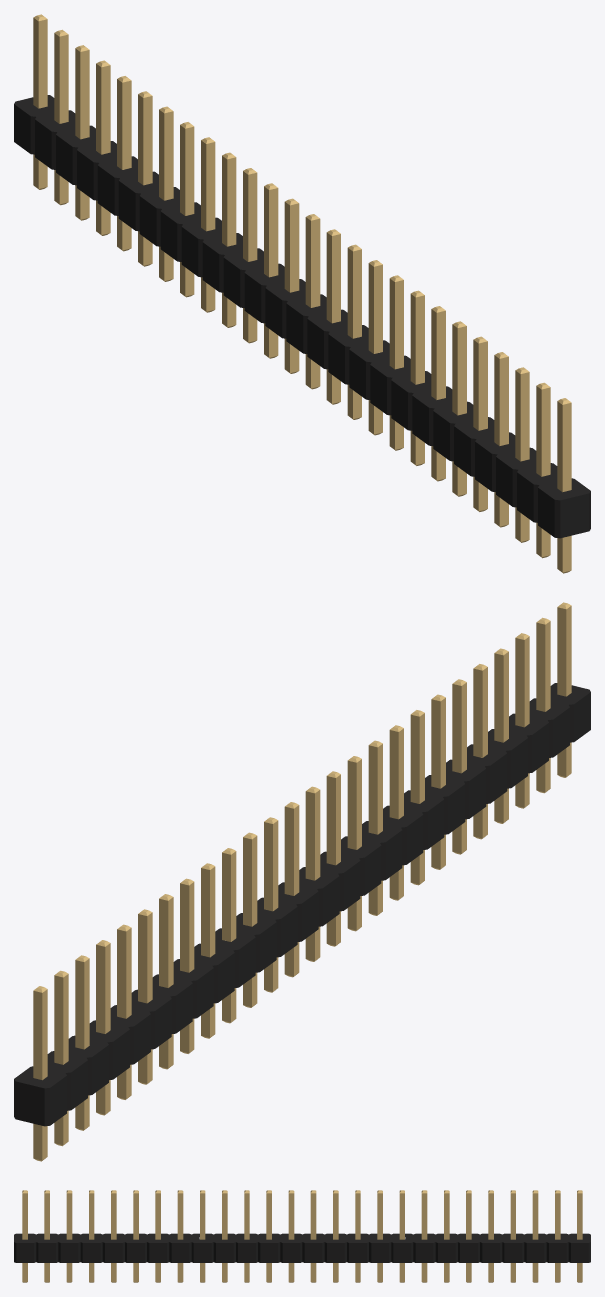
Rendered from kc-pinheader_1x26_p2.54mm_vertical.glb.
The picture shows the model from 3 angles, top to bottom: view 1: azimuth 30°, elevation 25°; view 2: azimuth 150°, elevation 25°; view 3: azimuth 270°, elevation 25°; orthographic projection. The views are drawn at different scales.
Parts seen in each view (by area): view 1: 0.75_0.5_0.25_0.9, 0_0_0_0; view 2: 0.75_0.5_0.25_0.9, 0_0_0_0; view 3: 0_0_0_0, 0.75_0.5_0.25_0.9.
Boxes of the visible parts, bbox=[...] form: 0.75_0.5_0.25_0.9: bbox=[33, 14, 571, 573]; 0_0_0_0: bbox=[14, 95, 590, 538]; 0.75_0.5_0.25_0.9: bbox=[33, 602, 571, 1161]; 0_0_0_0: bbox=[14, 683, 590, 1126]; 0_0_0_0: bbox=[14, 1233, 590, 1262]; 0.75_0.5_0.25_0.9: bbox=[22, 1190, 582, 1282].
Bounding box in the file's own units: 0.2539 × 1.15 × 6.6.
